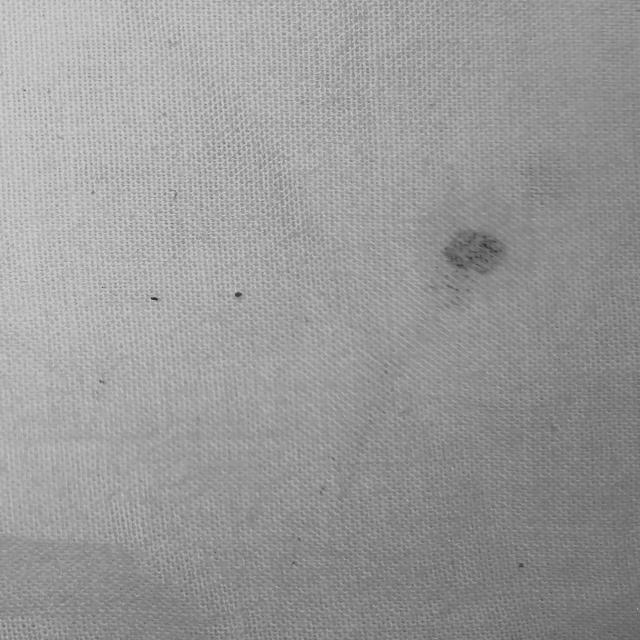Hole: (98, 241, 298, 406), (409, 196, 536, 312)
